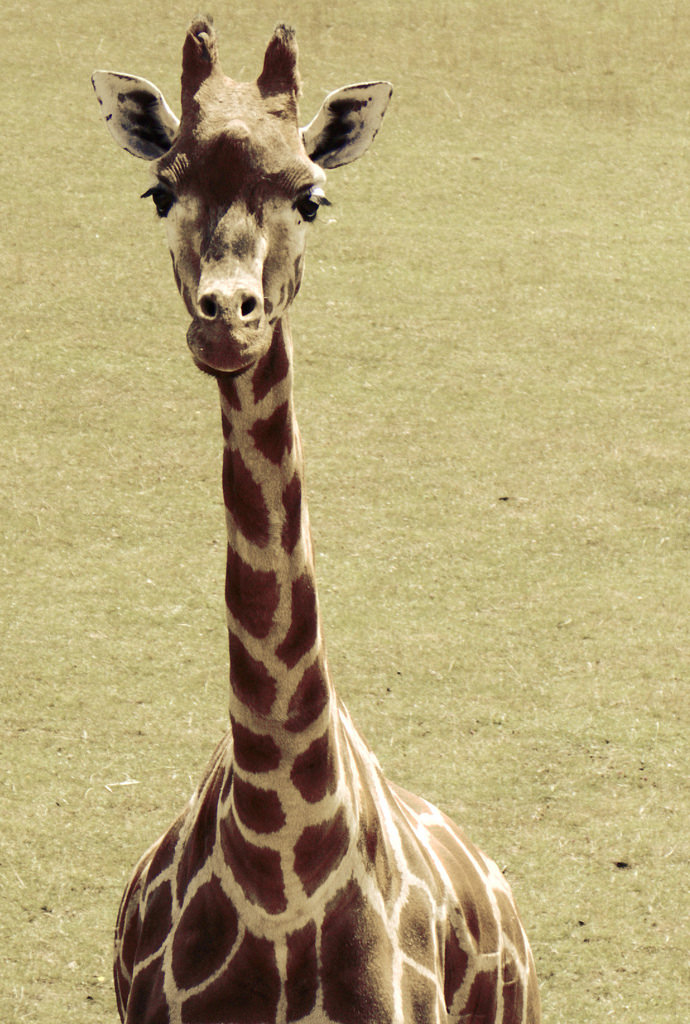giraffe: (89, 32, 549, 992)
